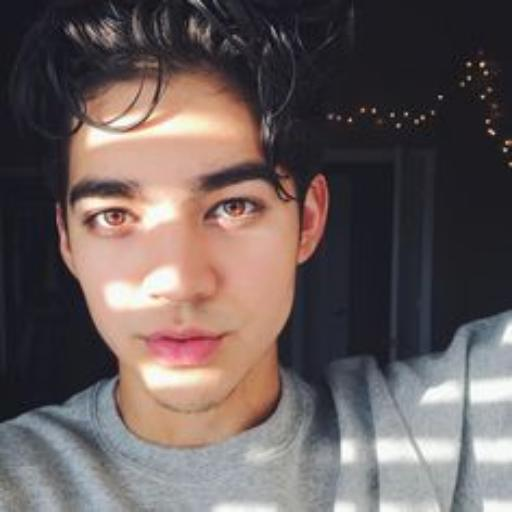left_eye: (203, 195, 272, 227)
left_lip_corner: (215, 324, 242, 348)
right_eye: (84, 206, 142, 233)
right_lip_corner: (134, 329, 158, 351)
